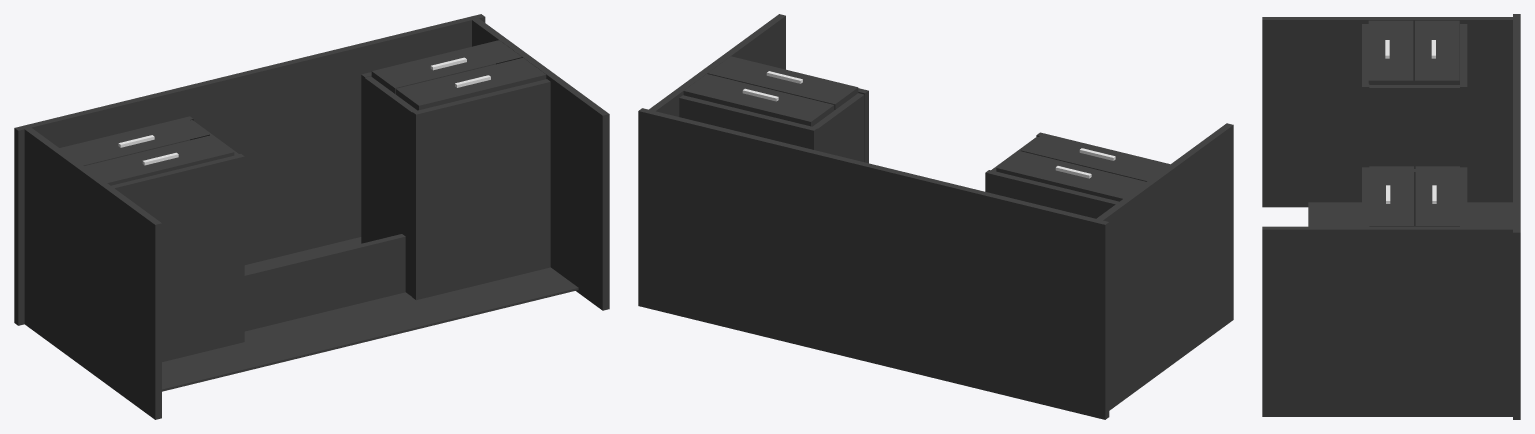
The model's file is annex-table.glb.
The picture shows the model from 3 angles, left to right: view 1: azimuth 30°, elevation 25°; view 2: azimuth 150°, elevation 25°; view 3: azimuth 270°, elevation 25°; orthographic projection. The views are drawn at different scales.
Visible parts, largest first — view 1: office_table_030; view 2: office_table_030; view 3: office_table_030.
Boxes of the visible parts, x1,y1,x2,y2 form: office_table_030: (14, 14, 609, 419); office_table_030: (638, 14, 1233, 419); office_table_030: (1262, 14, 1520, 419).
Bounding box in the file's own units: 1.5 × 0.61 × 0.7501.
1 material, 1 textured.
